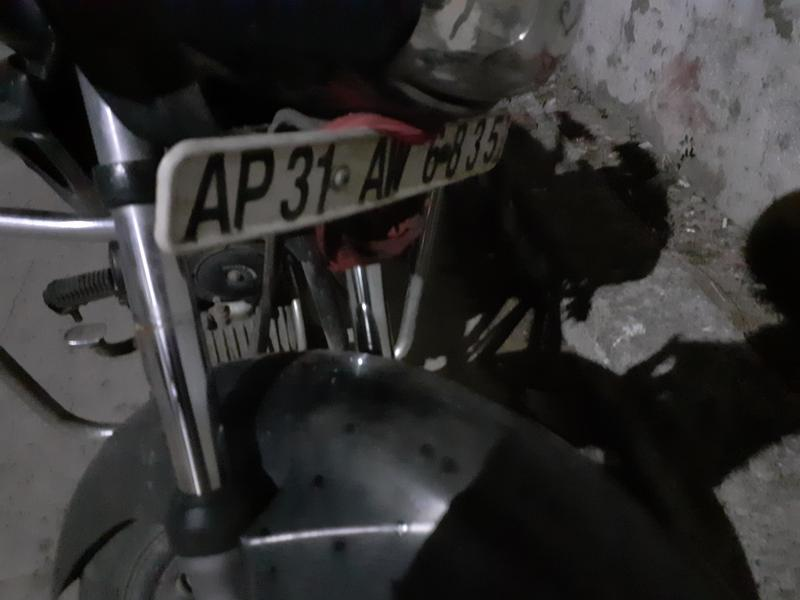numberplate: (159, 107, 528, 263)
